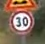limite 30: (8, 8, 35, 33)
